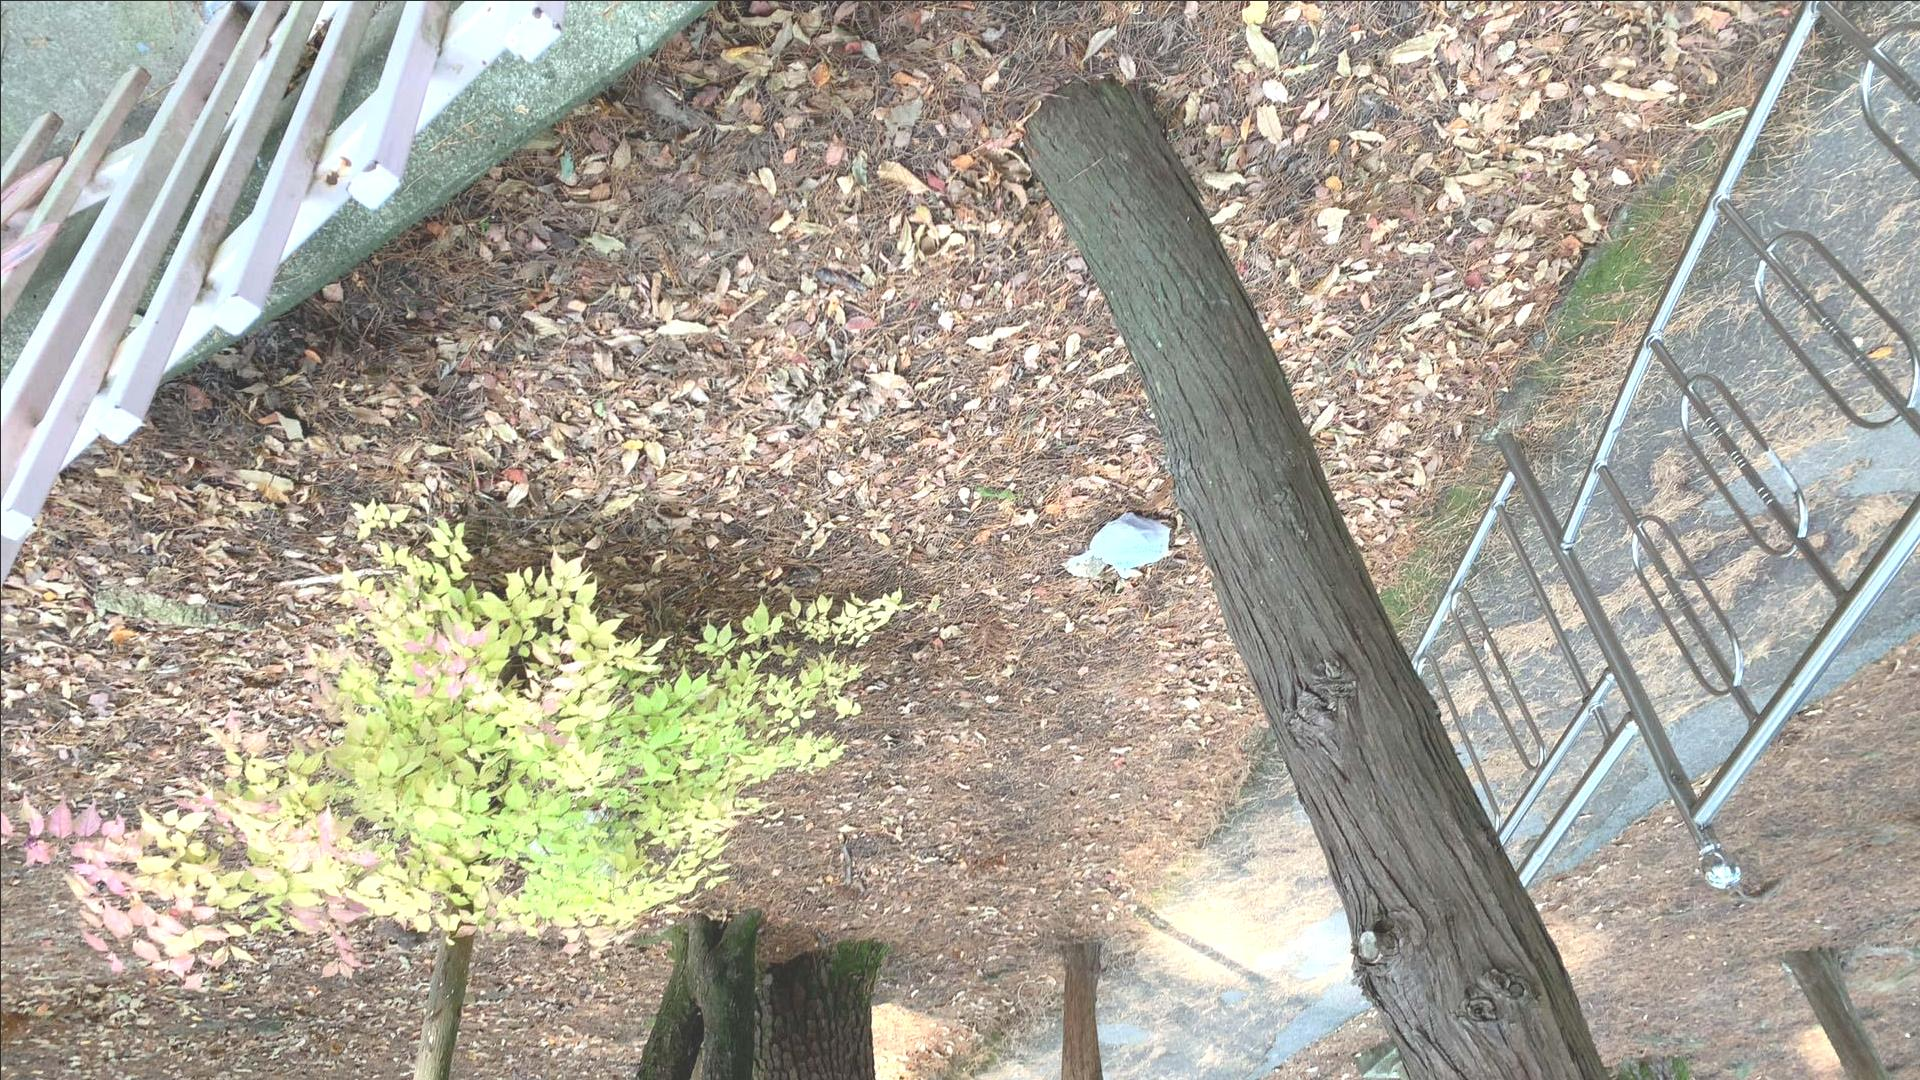white_bag: (1062, 506, 1182, 585)
